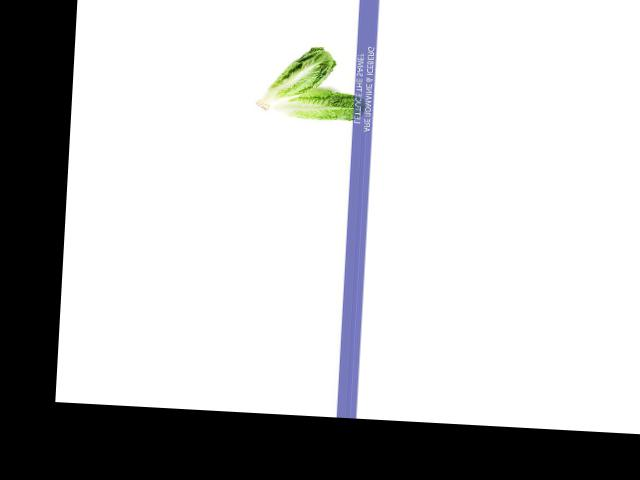lettuce: (245, 46, 341, 113)
